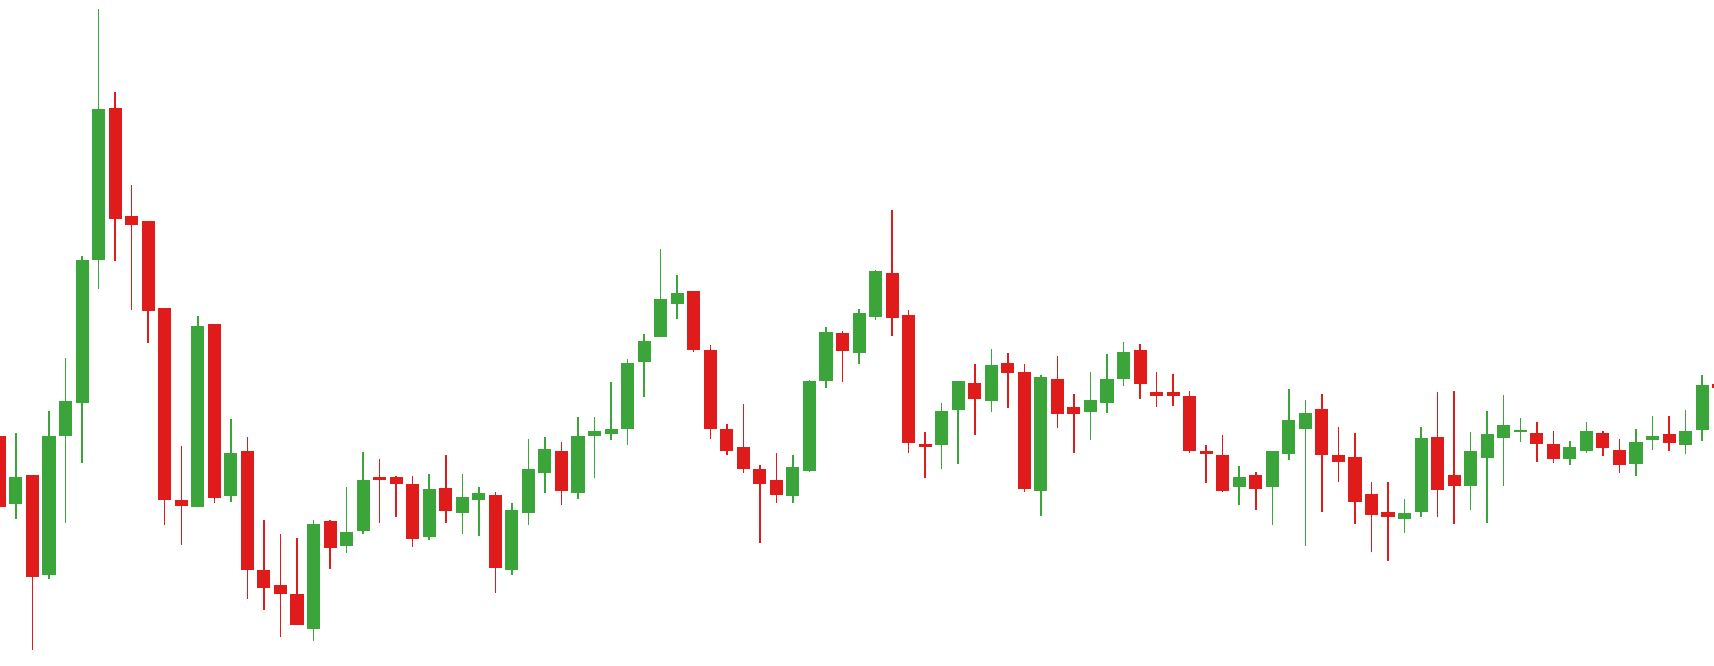buy: (550, 383, 771, 559), (917, 390, 1049, 513), (403, 487, 518, 598)
